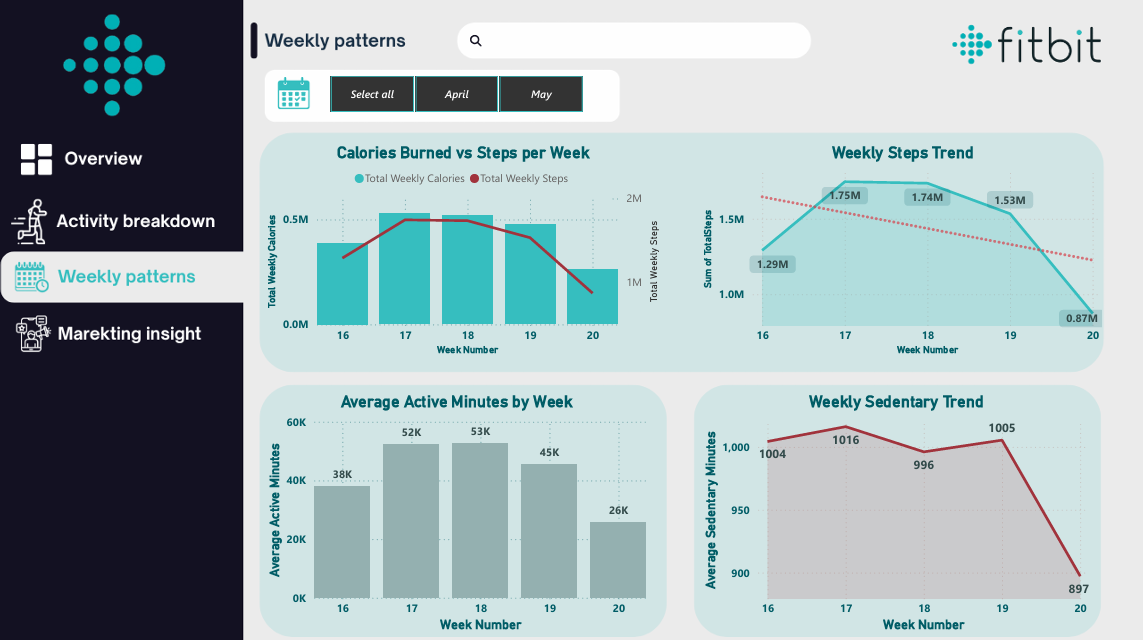

What the dashboard file says about the page in this screenshot:
{"tool":"powerbi","page":{"name":"Weekly patterns","canvas":[1280,720],"ordinal":2},"visuals":[{"type":"lineChart","title":"Weekly Steps Trend","fields":{"Category":["cleaned_dailyActivity.Week Number"],"Y":["Sum(cleaned_dailyActivity.TotalSteps)"]},"box":[782,162,456,242],"z":0},{"type":"columnChart","title":"Average Active Minutes by Week","fields":{"Category":["cleaned_dailyActivity.Week Number"],"Y":["cleaned_dailyActivity.Average Active Minutes"]},"box":[294,440,434,274],"z":1000},{"type":"lineClusteredColumnComboChart","title":"Calories Burned vs Steps per Week","fields":{"Category":["cleaned_dailyActivity.Week Number"],"Y":["cleaned_dailyActivity.Total Weekly Calories"],"Y2":["cleaned_dailyActivity.Total Weekly Steps"]},"box":[294,162,448,242],"z":2000},{"type":"lineChart","title":"Weekly Sedentary Trend","fields":{"Category":["cleaned_dailyActivity.Week Number"],"Y":["cleaned_dailyActivity.Average Sedentary Minutes"]},"box":[782,440,442,274],"z":3000},{"type":"slicer","fields":{"Values":["cleaned_dailyActivity.Month"]},"box":[344,80,332,54],"z":4000},{"type":"actionButton","box":[0,146,196,62],"z":5000},{"type":"actionButton","box":[0,218,258,62],"z":6000},{"type":"actionButton","box":[0,340,236,64],"z":7000}]}

Visuals, with their boxes on the page's 1280x720 design canvas (x1, y1, x2, y2). These are canvas units, not pixel positions in the 1143x640 screenshot, which may show the page scaled, cropped or inside an application window:
"Weekly Steps Trend" lineChart: bbox(782, 162, 1238, 404)
"Average Active Minutes by Week" columnChart: bbox(294, 440, 728, 714)
"Calories Burned vs Steps per Week" lineClusteredColumnComboChart: bbox(294, 162, 742, 404)
"Weekly Sedentary Trend" lineChart: bbox(782, 440, 1224, 714)
slicer - cleaned_dailyActivity.Month: bbox(344, 80, 676, 134)
actionButton: bbox(0, 146, 196, 208)
actionButton: bbox(0, 218, 258, 280)
actionButton: bbox(0, 340, 236, 404)
